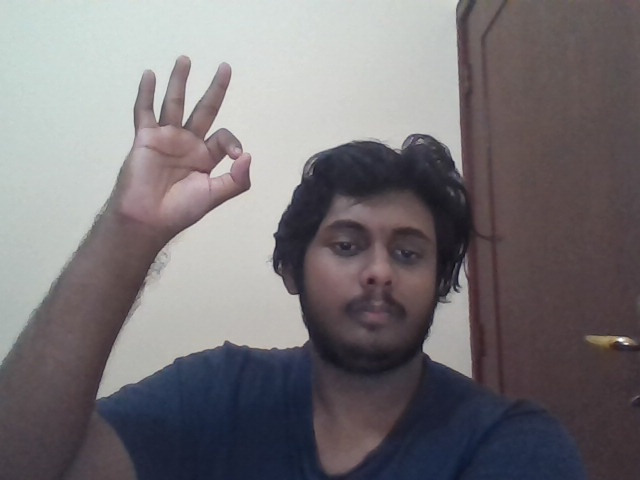ok: (112, 55, 252, 233)
